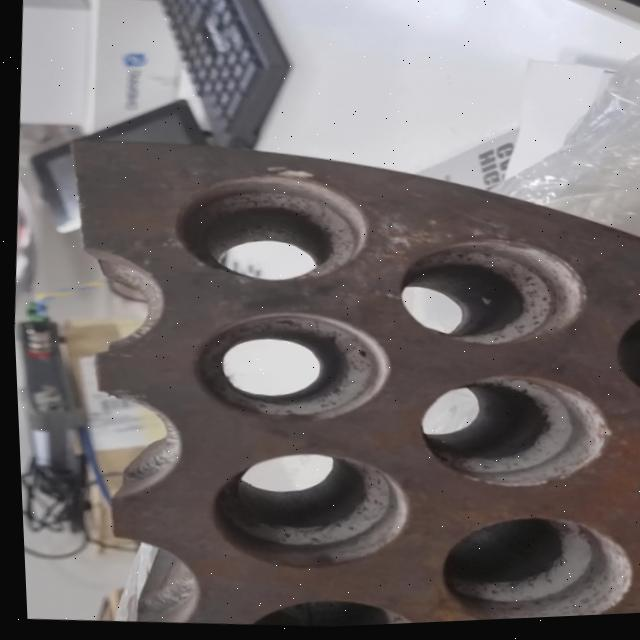Hole: (197, 444, 408, 581), (181, 302, 390, 432), (165, 161, 369, 294), (408, 370, 609, 501), (388, 232, 588, 360), (427, 510, 632, 626), (227, 591, 421, 633), (603, 306, 640, 413), (624, 438, 640, 554)
